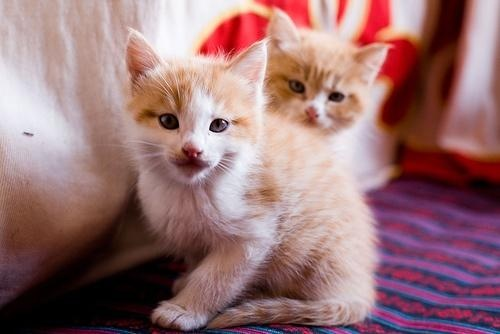cat: (117, 31, 376, 329), (261, 14, 398, 132)
